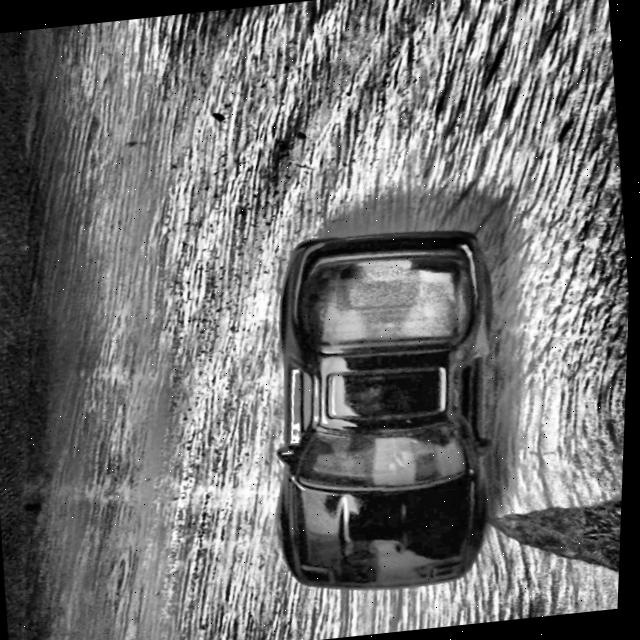car: (247, 218, 524, 600)
